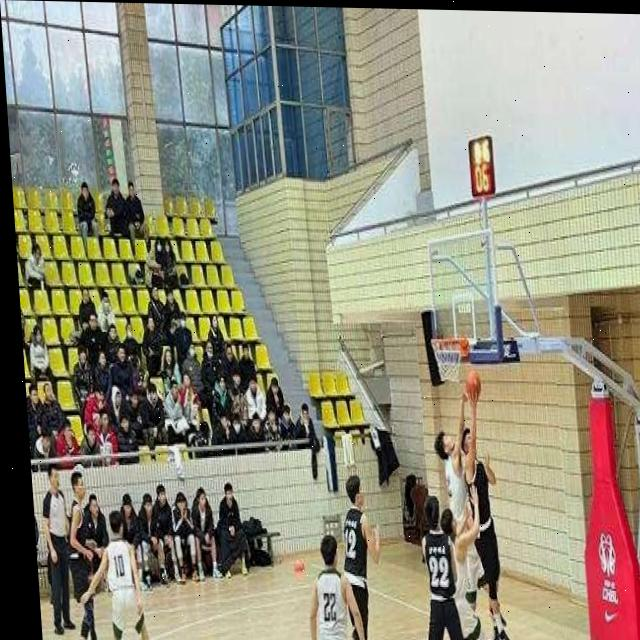basketball: (465, 372, 481, 397)
hoop: (429, 339, 466, 384)
